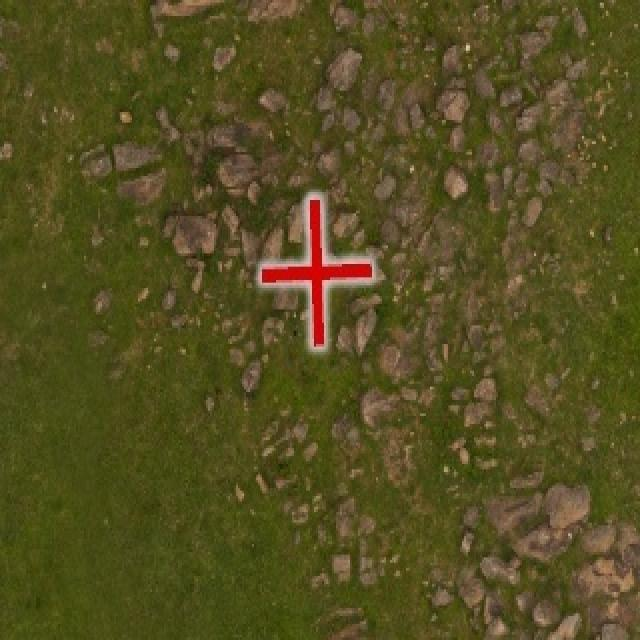x_marker: (261, 196, 371, 345)
